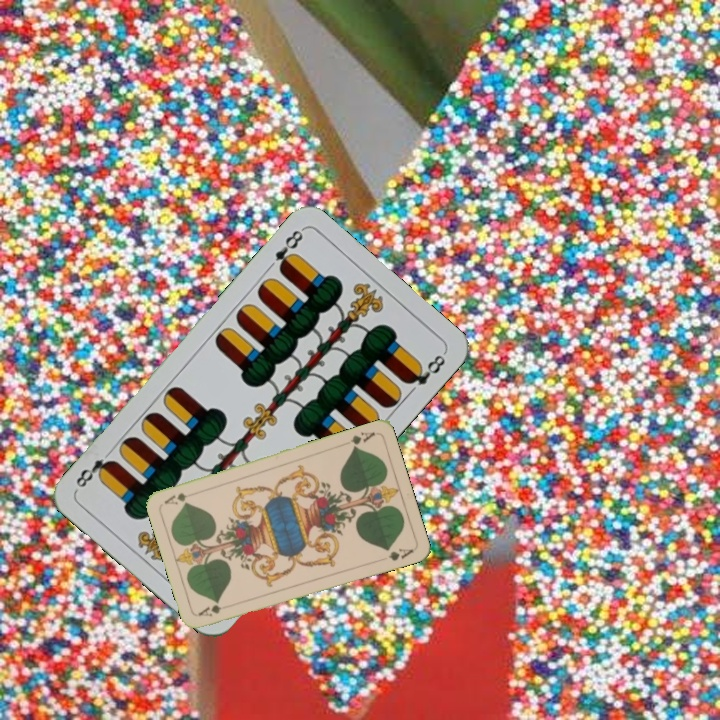E8: (270, 225, 306, 276)
GA: (195, 600, 235, 619), (346, 428, 378, 451)
